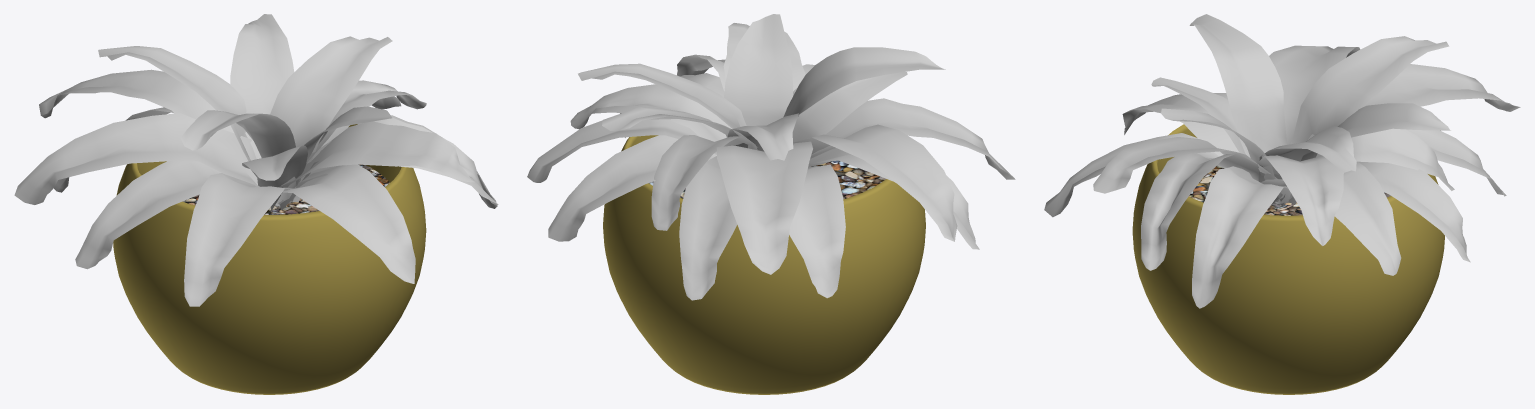
The model's file is chinese evergreen.fbx.
The picture shows the model from 3 angles, left to right: view 1: azimuth 30°, elevation 25°; view 2: azimuth 150°, elevation 25°; view 3: azimuth 270°, elevation 25°; orthographic projection. The views are drawn at different scales.
Visible parts, largest first — view 1: Bowl, Plane_26, Plane_17, Plane_14, Plane_2, Plane_20, Plane_16, Plane_4, Plane_18, Plane_3, Plane_5, Plane_30 (+5 smaller); view 2: Bowl, Plane_18, Plane_26, Plane_29, Plane_22, Plane_21, Plane_23, Plane_5, Plane_17, Plane_28, Plane_19, Plane_30 (+9 smaller); view 3: Bowl, Plane_5, Plane_24, Plane_3, Plane_25, Plane_27, Plane_19, Plane_23, Plane_18, Plane_26, Plane_28, Plane_16 (+8 smaller).
Part boxes in pixels (x1,y1,x2,y2): Bowl: (113, 124, 426, 394); Plane_26: (14, 113, 275, 205); Plane_17: (184, 173, 293, 306); Plane_14: (275, 164, 415, 283); Plane_2: (270, 36, 392, 198); Plane_20: (75, 161, 280, 269); Plane_16: (270, 121, 474, 210); Plane_4: (230, 14, 294, 114); Plane_18: (39, 69, 234, 133); Plane_3: (98, 46, 250, 160); Plane_5: (180, 110, 300, 185); Plane_30: (242, 145, 307, 187); Bowl: (603, 135, 925, 394); Plane_18: (716, 141, 812, 274); Plane_26: (793, 124, 957, 241); Plane_29: (724, 14, 793, 125); Plane_22: (679, 156, 737, 300); Plane_21: (789, 164, 845, 298); Plane_23: (548, 135, 716, 241); Plane_5: (783, 47, 945, 117); Plane_17: (810, 98, 1015, 179); Plane_28: (651, 135, 757, 230); Plane_19: (570, 84, 731, 141); Plane_30: (792, 72, 907, 142); Bowl: (1132, 124, 1444, 394); Plane_5: (1189, 14, 1287, 157); Plane_24: (1192, 166, 1290, 308); Plane_3: (1290, 36, 1449, 144); Plane_25: (1141, 153, 1267, 270); Plane_27: (1260, 162, 1401, 275); Plane_19: (1257, 155, 1343, 245); Plane_23: (1272, 161, 1470, 262); Plane_18: (1287, 64, 1520, 204); Plane_26: (1269, 45, 1360, 144); Plane_28: (1280, 128, 1454, 201); Plane_16: (1093, 137, 1277, 193).
Size of the model in its own units: 27.47 by 18.58 by 28.32.
